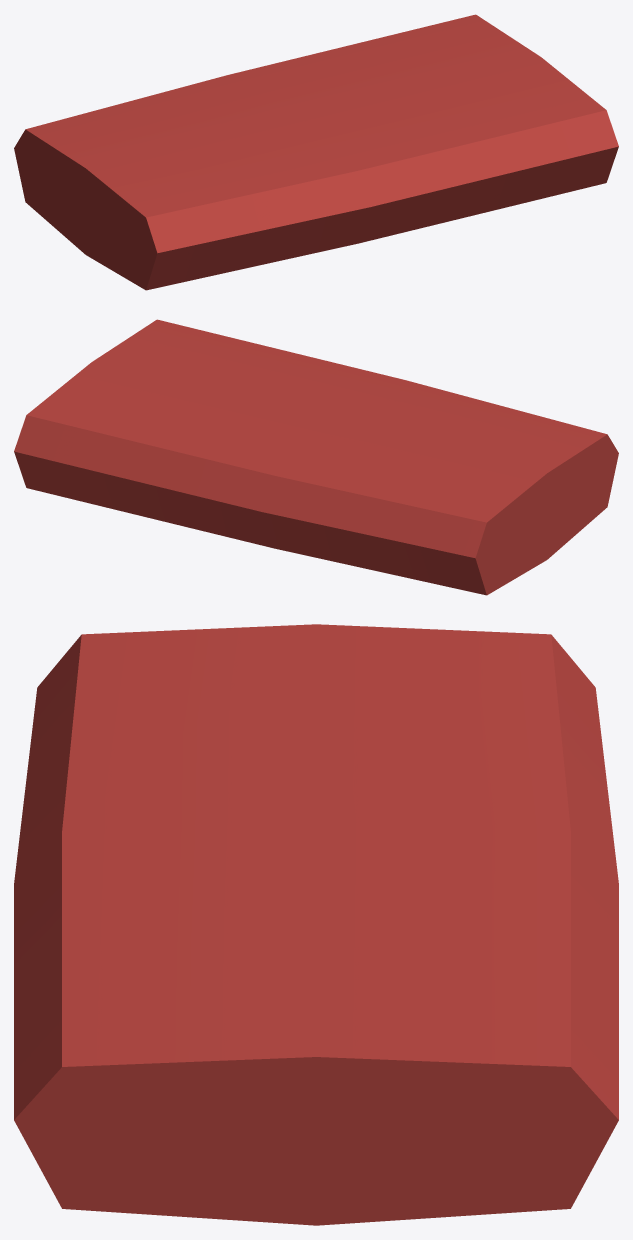
File: tracker_lod2.glb
3 renders of one model, top to bottom at view 1: azimuth 30°, elevation 25°; view 2: azimuth 150°, elevation 25°; view 3: azimuth 270°, elevation 25°, orthographic. The views are drawn at different scales.
Parts seen in each view (by area): view 1: tracker_lod2; view 2: tracker_lod2; view 3: tracker_lod2.
Part boxes in pixels (bbox=[...]): tracker_lod2: bbox=[14, 14, 618, 290]; tracker_lod2: bbox=[14, 319, 618, 595]; tracker_lod2: bbox=[14, 624, 618, 1225].
Bounding box in the file's own units: 0.44 × 0.08 × 0.26.
